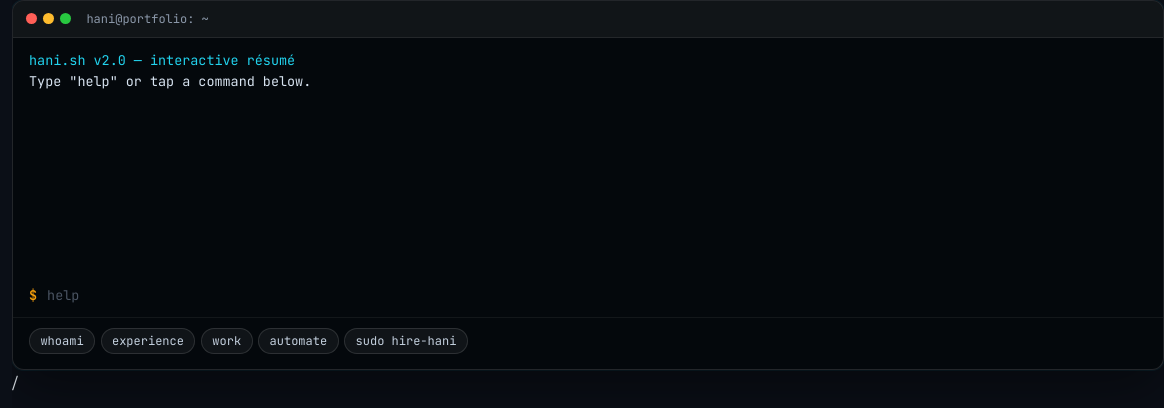
Scenario: Tab completes a unique match and lists several
Later steps or results of the test are not shown.
In the field named "terminal input": (596, 295) [45,284,1147,306], type "who"
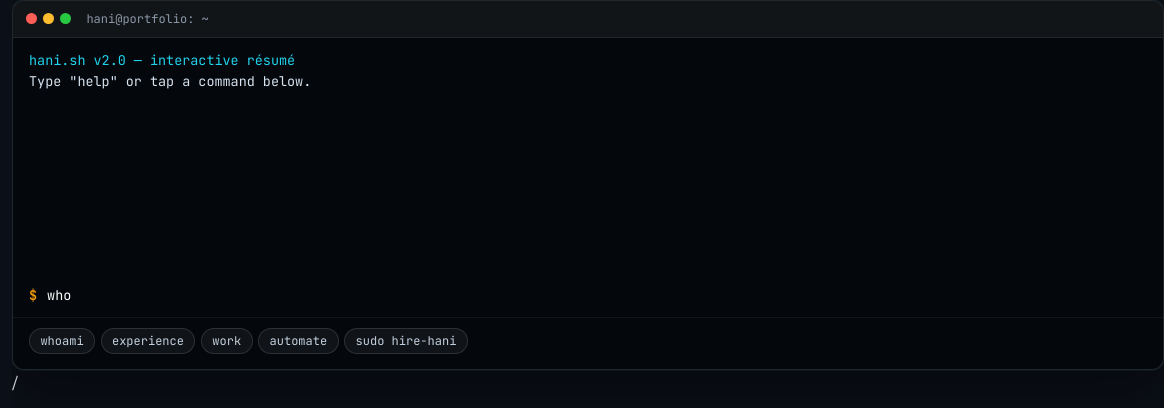
Press Tab
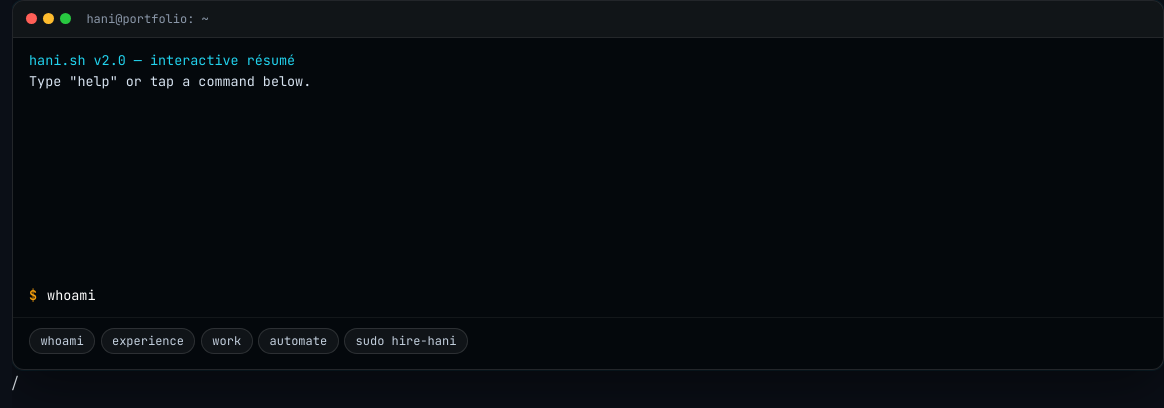
Check: the field named "terminal input" holds "whoami", box [45,284,1147,306]
